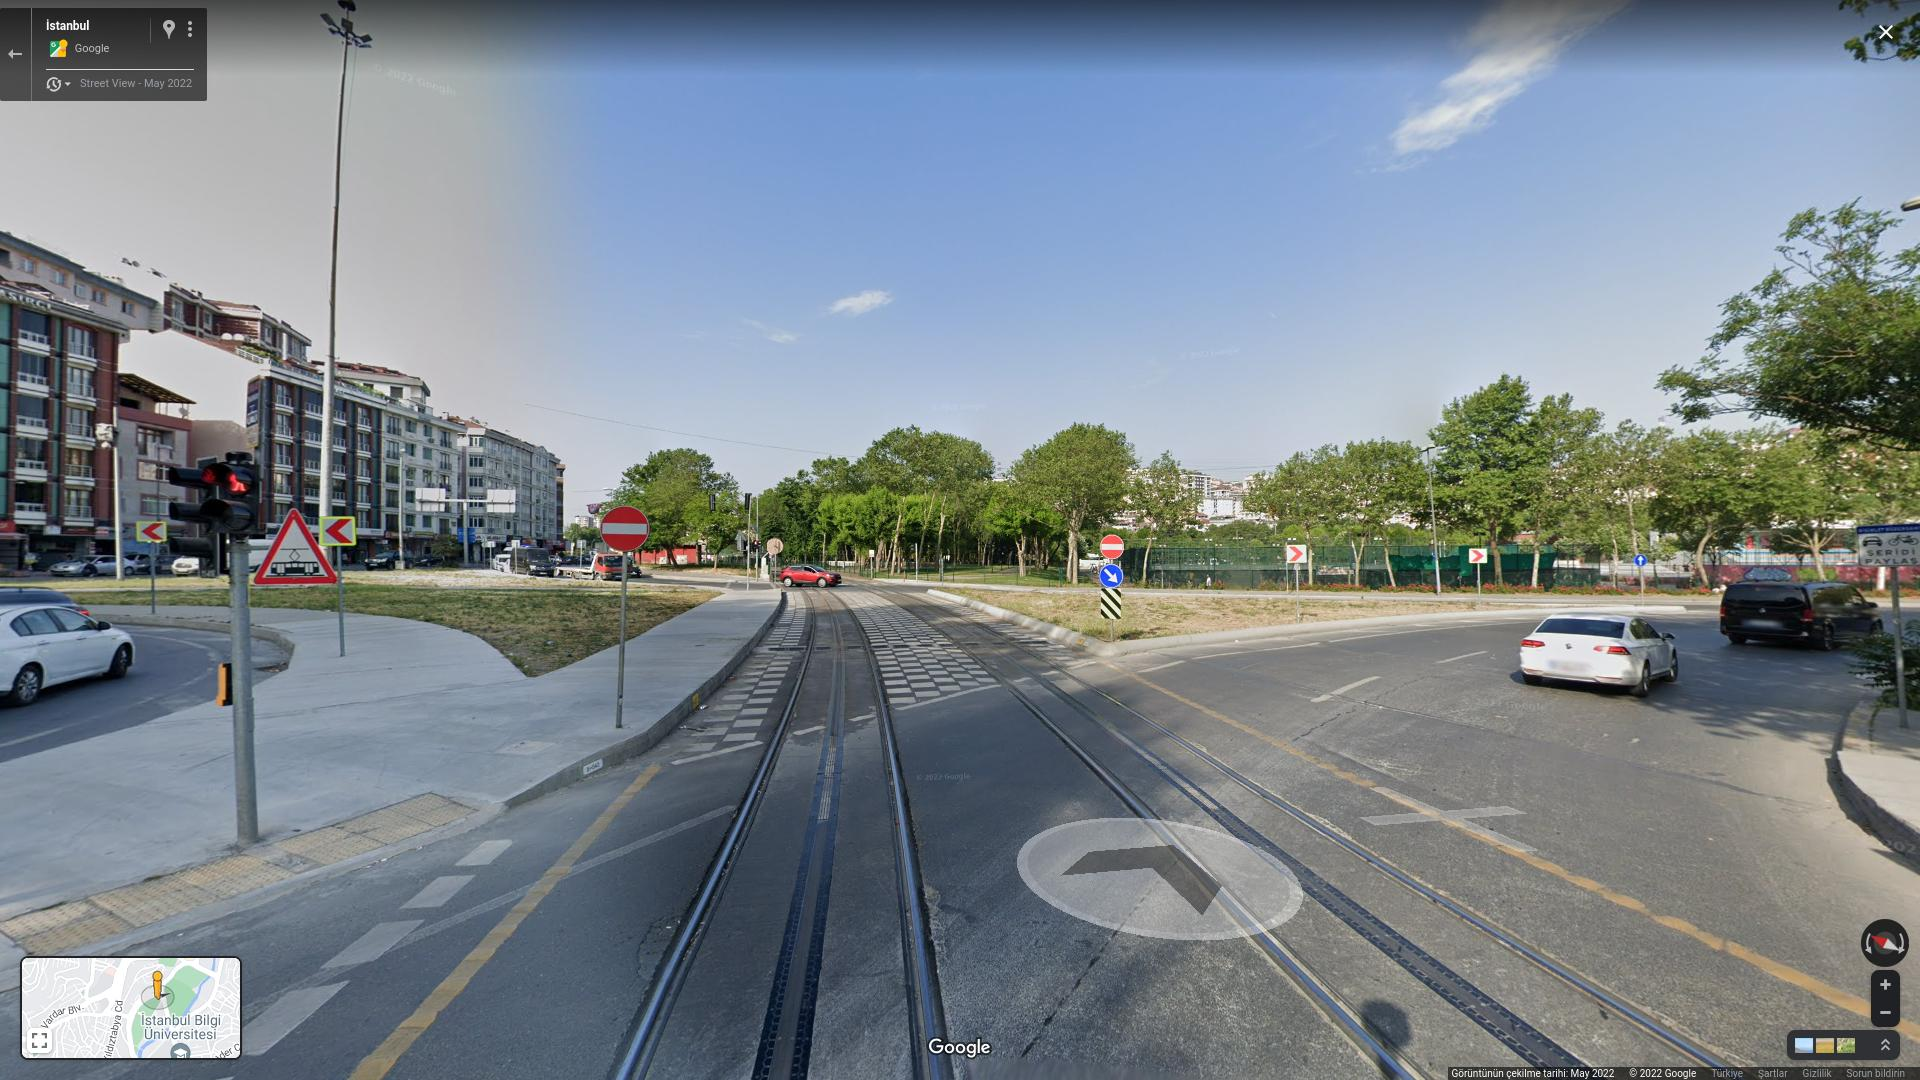forward: (1634, 554, 1648, 567)
